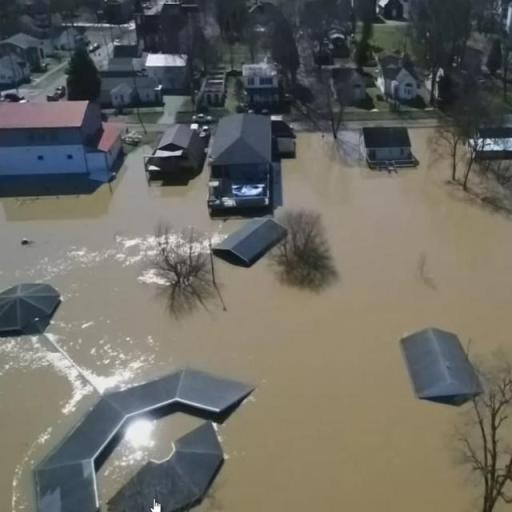flood: (0, 106, 512, 512), (496, 409, 512, 480)
house: (1, 94, 105, 188), (205, 109, 284, 217), (402, 326, 484, 402), (142, 95, 208, 188), (210, 214, 288, 269), (351, 128, 425, 169), (238, 57, 284, 108), (142, 51, 192, 83), (385, 64, 418, 99), (109, 82, 133, 106)
